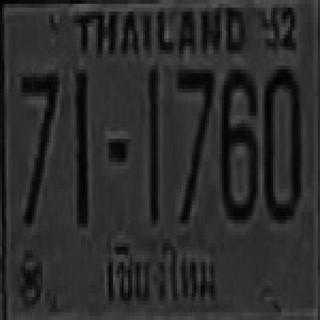N00: (263, 66, 300, 220)
N01: (75, 69, 87, 224), (147, 64, 158, 222)
N06: (220, 66, 256, 220)
N07: (19, 69, 58, 224), (175, 66, 214, 220)
P11: (99, 233, 219, 309)
